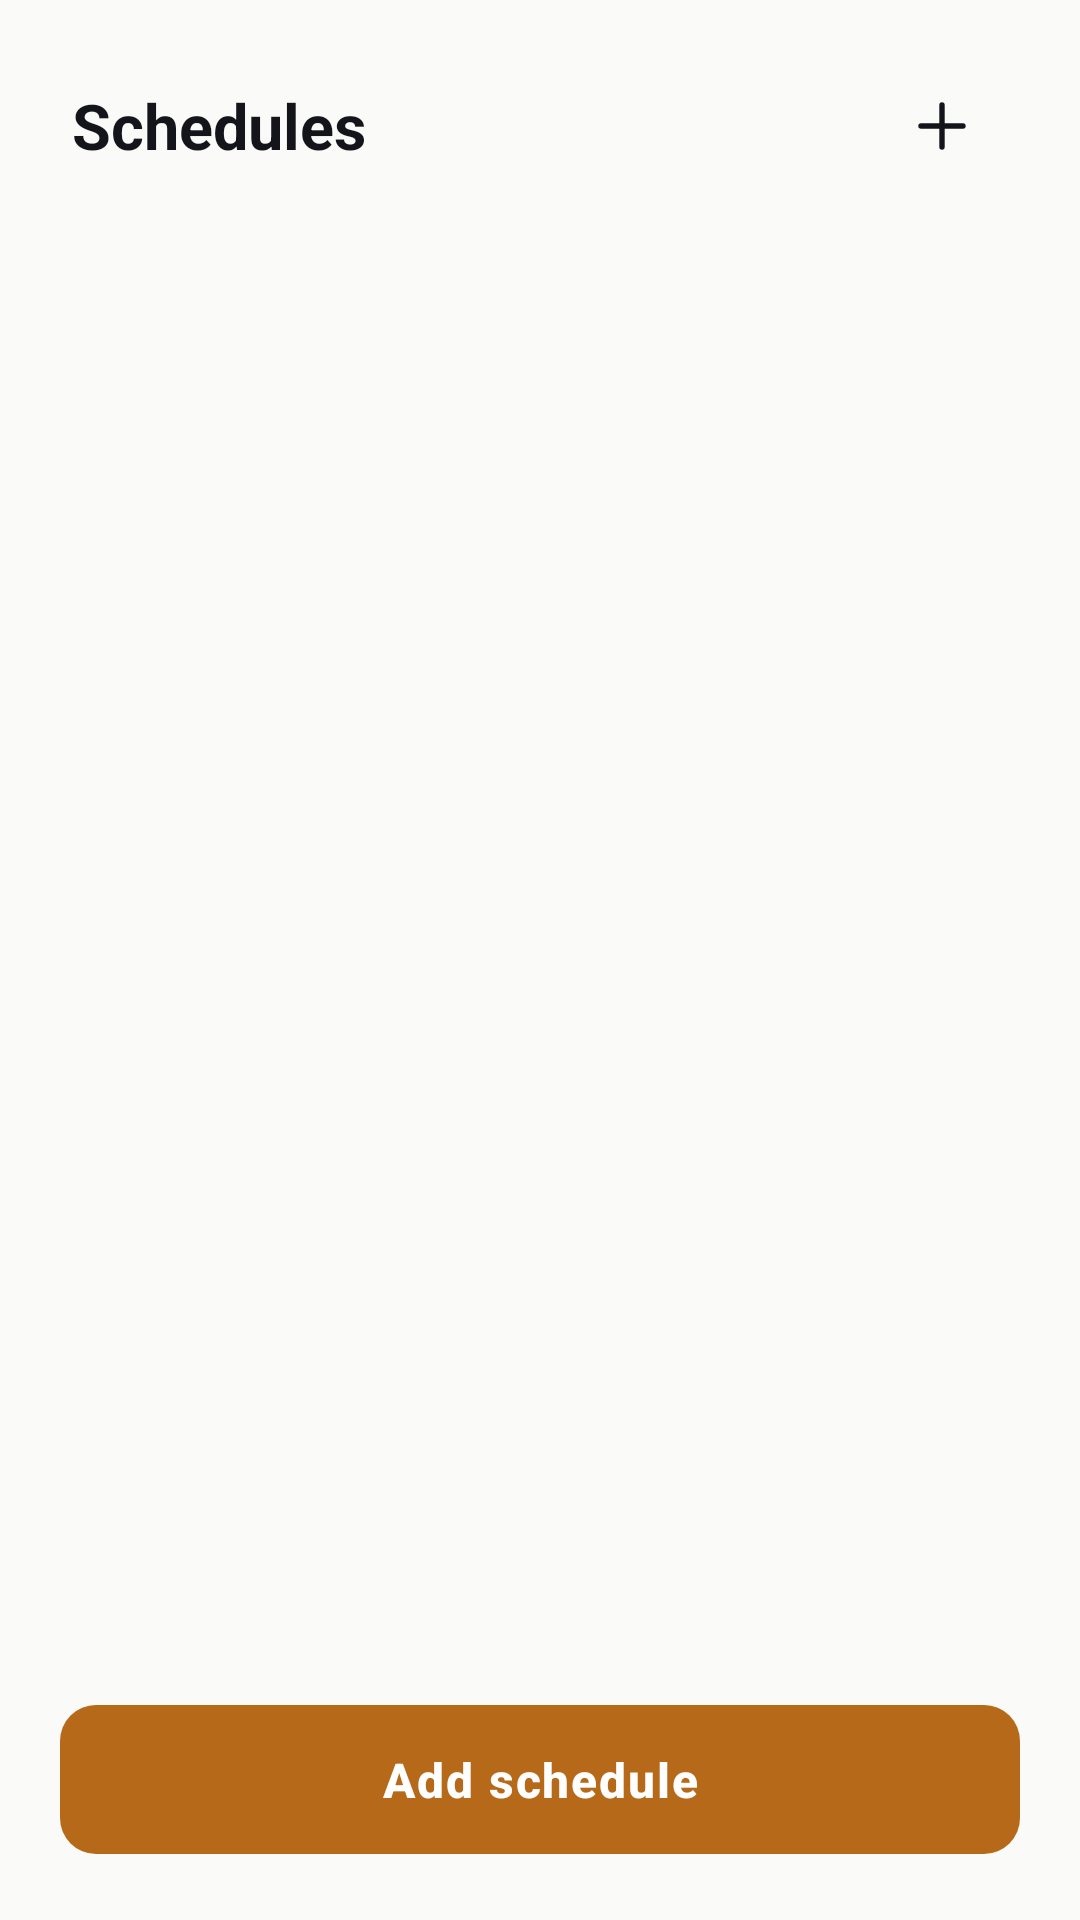

Named icons in this screenshot (1080x1920) and their bounding boxes, bbox=(x1, y1, x2, y2):
Add schedule: bbox=(918, 102, 966, 150)
